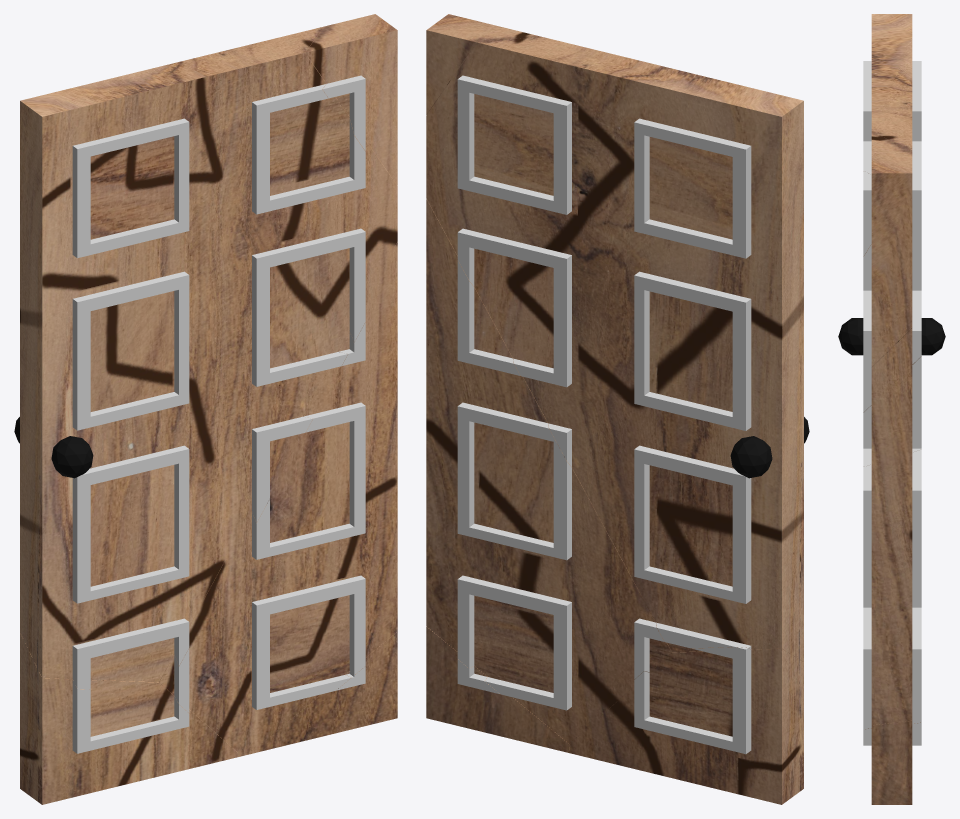
Rendered from DoorModelBroken.fbx.
3 renders of one model, left to right at view 1: azimuth 30°, elevation 25°; view 2: azimuth 150°, elevation 25°; view 3: azimuth 270°, elevation 25°, orthographic. The views are drawn at different scales.
Parts seen in each view (by area): view 1: Cube_cell, Cube_cell.004, Cube_cell.003, Cube_cell.001, Cube_cell.002, Cube_cell.005; view 2: Cube_cell, Cube_cell.004, Cube_cell.003, Cube_cell.002, Cube_cell.001, Cube_cell.006; view 3: Cube_cell.004, Cube_cell, Cube_cell.001, Cube_cell.002, Cube_cell.005, Cube_cell.006.
Boxes of the visible parts, x1=… form: Cube_cell: x1=20, y1=26, x2=397, y2=689; Cube_cell.004: x1=159, y1=242, x2=397, y2=755; Cube_cell.003: x1=20, y1=633, x2=241, y2=804; Cube_cell.001: x1=305, y1=14, x2=397, y2=185; Cube_cell.002: x1=248, y1=632, x2=397, y2=754; Cube_cell.005: x1=51, y1=436, x2=93, y2=478; Cube_cell: x1=426, y1=36, x2=803, y2=661; Cube_cell.004: x1=426, y1=199, x2=671, y2=743; Cube_cell.003: x1=569, y1=647, x2=803, y2=804; Cube_cell.002: x1=426, y1=626, x2=569, y2=752; Cube_cell.001: x1=426, y1=14, x2=540, y2=114; Cube_cell.006: x1=730, y1=436, x2=772, y2=478; Cube_cell.004: x1=863, y1=328, x2=921, y2=729; Cube_cell: x1=863, y1=14, x2=921, y2=466; Cube_cell.001: x1=863, y1=132, x2=912, y2=315; Cube_cell.002: x1=863, y1=721, x2=921, y2=804; Cube_cell.005: x1=838, y1=318, x2=863, y2=355; Cube_cell.006: x1=921, y1=318, x2=945, y2=355.
Size of the model in its own units: 402 by 744 by 115.
